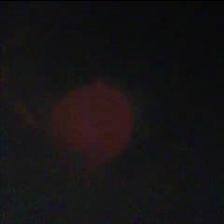fertile: (43, 80, 136, 166)
